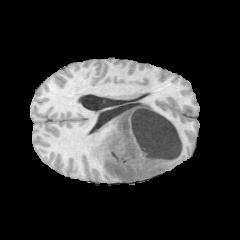glioma: (91, 102, 183, 182)
